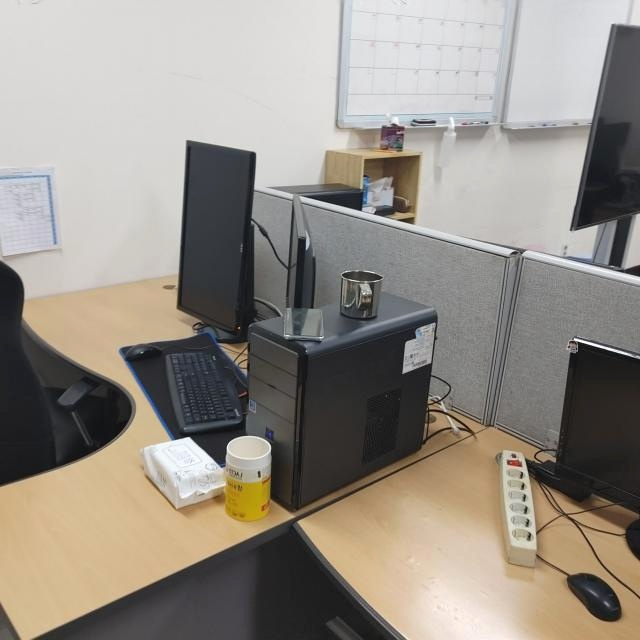cup: (336, 270, 384, 321)
phone: (281, 305, 325, 343)
